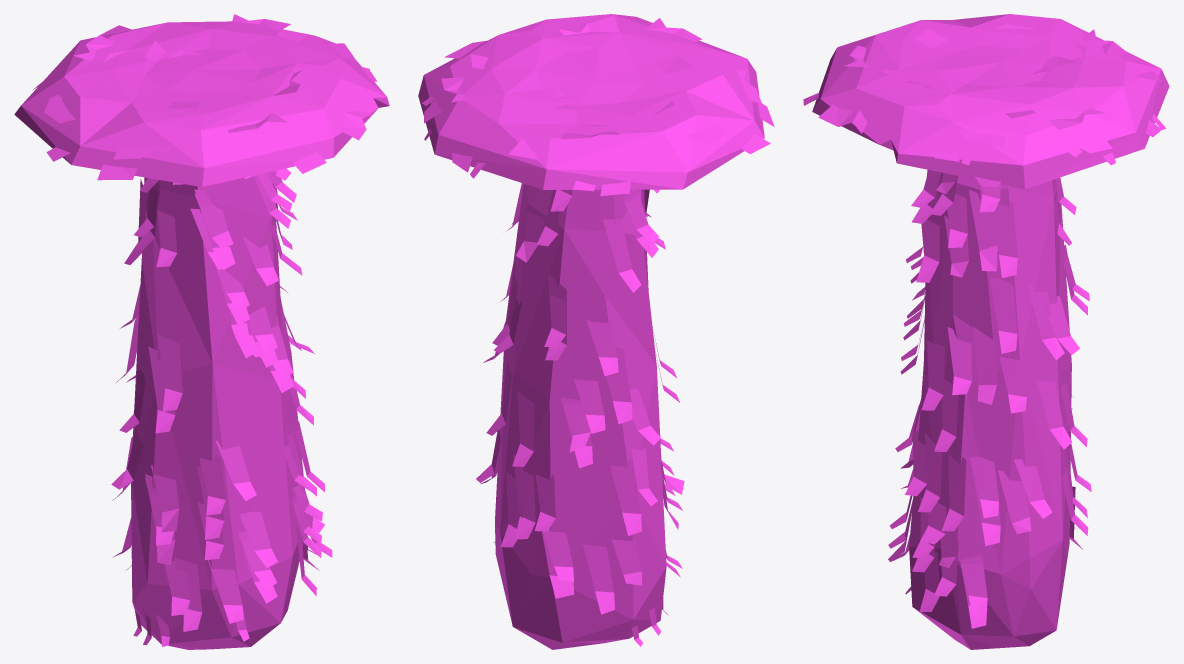
The model's file is SM_Mushroom_Fluffy_Giant_A_Fantasy.fbx.
3 renders of one model, left to right at view 1: azimuth 30°, elevation 25°; view 2: azimuth 150°, elevation 25°; view 3: azimuth 270°, elevation 25°, orthographic.
Parts seen in each view (by area): view 1: SM_Mushroom_Fluffy_Giant_A_Fantasy; view 2: SM_Mushroom_Fluffy_Giant_A_Fantasy; view 3: SM_Mushroom_Fluffy_Giant_A_Fantasy.
Boxes of the visible parts, x1,y1,x2,y2 form: SM_Mushroom_Fluffy_Giant_A_Fantasy: (14,14,389,649); SM_Mushroom_Fluffy_Giant_A_Fantasy: (418,14,774,649); SM_Mushroom_Fluffy_Giant_A_Fantasy: (803,14,1169,649).
Bounding box in the file's own units: 6.35 × 10.88 × 6.23.
